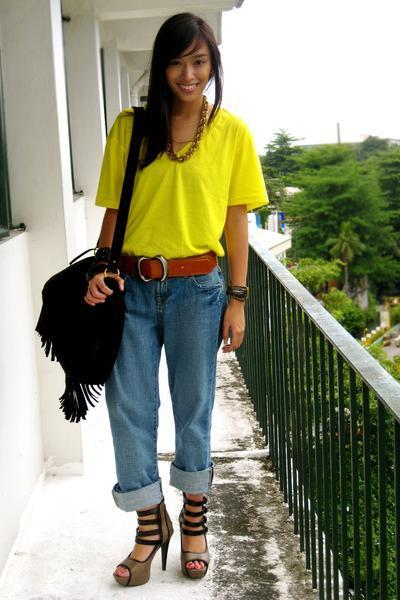bag: (36, 144, 153, 419)
pants: (108, 264, 228, 580)
shirt: (95, 107, 268, 258)
shoe: (113, 492, 209, 587)
